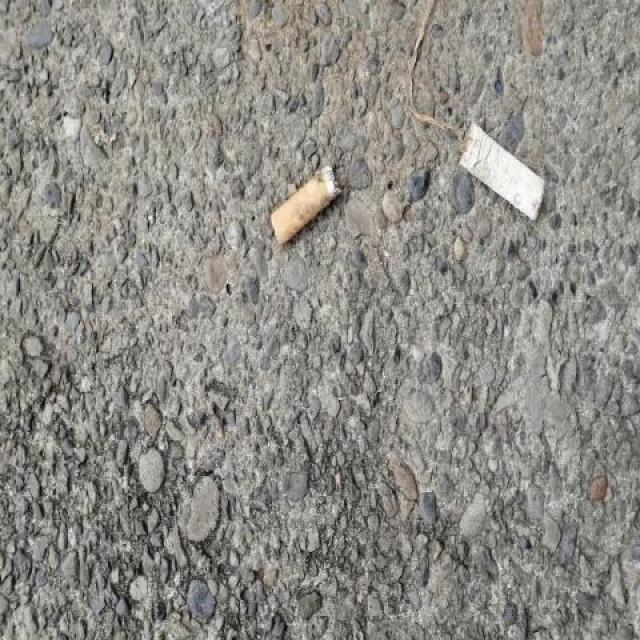non-organic waste: (453, 115, 551, 228), (267, 158, 349, 247)
